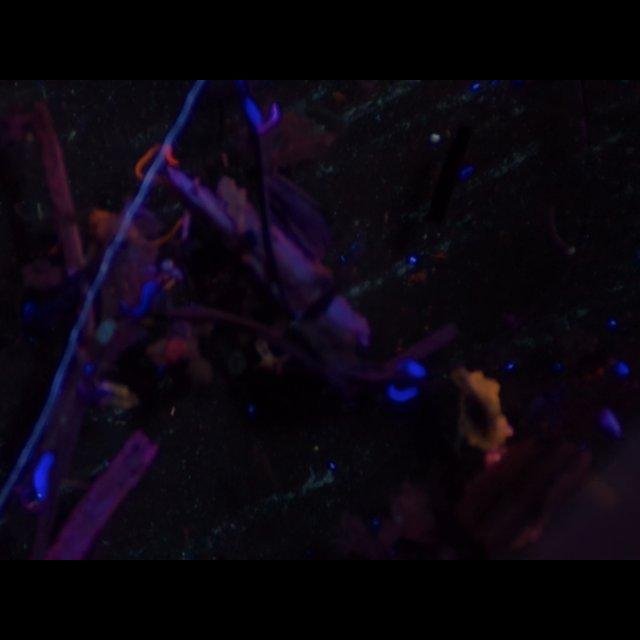microbeads: (430, 132, 440, 144)
